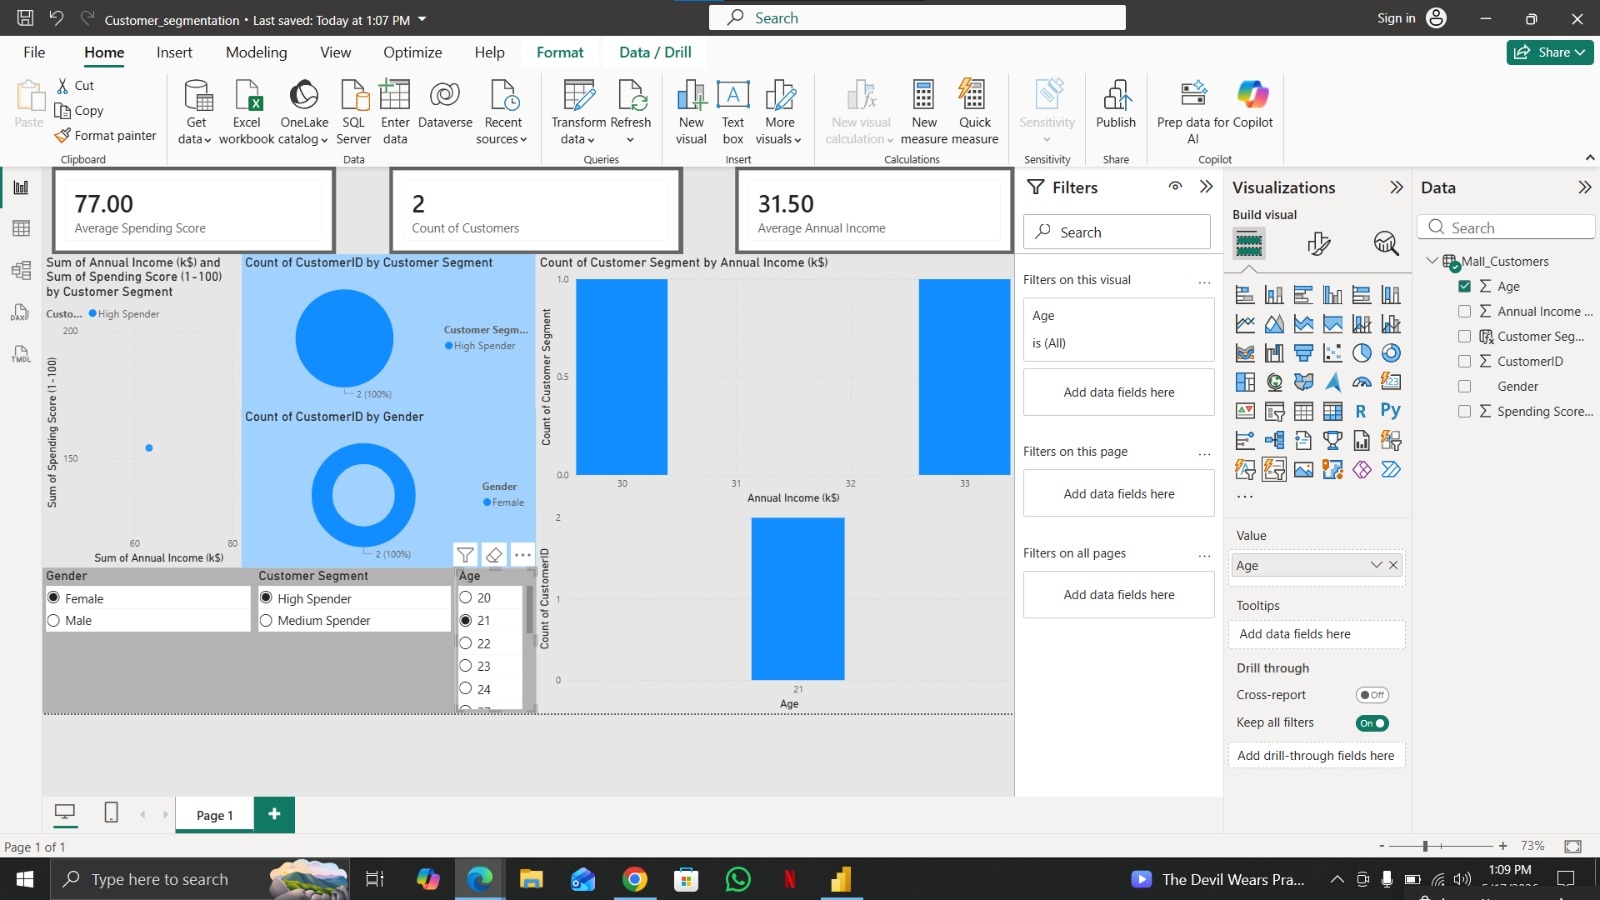

The page's visual inventory and layout, read from the dashboard file:
{"tool":"powerbi","page":{"name":"Page 1","canvas":[1280,720],"ordinal":0},"visuals":[{"type":"pieChart","fields":{"Category":["Mall_Customers.Customer Segment"],"Y":["CountNonNull(Mall_Customers.CustomerID)"]},"box":[262.1,115.3,387,203.1],"z":0},{"type":"scatterChart","fields":{"X":["Sum(Mall_Customers.Annual Income (k$))"],"Y":["Sum(Mall_Customers.Spending Score (1-100))"],"Series":["Mall_Customers.Customer Segment"]},"box":[0,115.3,262.1,413],"z":1000},{"type":"clusteredColumnChart","fields":{"Category":["Mall_Customers.Age"],"Y":["CountNonNull(Mall_Customers.CustomerID)"]},"box":[649.1,429.5,631.2,290.9],"z":2000},{"type":"donutChart","fields":{"Category":["Mall_Customers.Gender"],"Y":["CountNonNull(Mall_Customers.CustomerID)"]},"box":[262.1,318.4,388.3,209.9],"z":3000},{"type":"clusteredColumnChart","fields":{"Category":["Mall_Customers.Annual Income (k$)"],"Y":["CountNonNull(Mall_Customers.Customer Segment)"]},"box":[650.4,115.3,629.8,334.8],"z":4000},{"type":"cardVisual","fields":{"Data":["CountNonNull(Mall_Customers.CustomerID)"]},"box":[456.9,0,387,115.3],"z":5000},{"type":"cardVisual","fields":{"Data":["Avg(Mall_Customers.Annual Income (k$))"]},"box":[912.5,0,367.8,115.3],"z":6000},{"type":"cardVisual","fields":{"Data":["Avg(Mall_Customers.Spending Score (1-100))"]},"box":[12.3,0,374.6,115.3],"z":7000},{"type":"listSlicer","fields":{"Values":["Mall_Customers.Gender"]},"box":[0,528.3,279.9,192.1],"z":7001},{"type":"listSlicer","fields":{"Values":["Mall_Customers.Customer Segment"]},"box":[279.9,528.3,263.5,192.1],"z":7002},{"type":"listSlicer","fields":{"Values":["Mall_Customers.Age"]},"box":[543.4,528.3,107,192.1],"z":7003}]}

Visuals, with their boxes on the page's 1280x720 design canvas (x1, y1, x2, y2). These are canvas units, not pixel positions in the 1600x900 screenshot, which may show the page scaled, cropped or inside an application window:
pieChart - Mall_Customers.Customer Segment x CountNonNull(Mall_Customers.CustomerID): 262 115 649 318
scatterChart - Sum(Mall_Customers.Annual Income (k$)) x Sum(Mall_Customers.Spending Score (1-100)): 0 115 262 528
clusteredColumnChart - Mall_Customers.Age x CountNonNull(Mall_Customers.CustomerID): 649 430 1280 720
donutChart - Mall_Customers.Gender x CountNonNull(Mall_Customers.CustomerID): 262 318 650 528
clusteredColumnChart - Mall_Customers.Annual Income (k$) x CountNonNull(Mall_Customers.Customer Segment): 650 115 1280 450
cardVisual - CountNonNull(Mall_Customers.CustomerID): 457 0 844 115
cardVisual - Avg(Mall_Customers.Annual Income (k$)): 912 0 1280 115
cardVisual - Avg(Mall_Customers.Spending Score (1-100)): 12 0 387 115
listSlicer - Mall_Customers.Gender: 0 528 280 720
listSlicer - Mall_Customers.Customer Segment: 280 528 543 720
listSlicer - Mall_Customers.Age: 543 528 650 720
